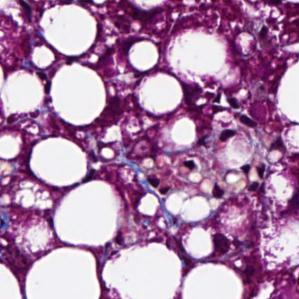inflammation: (203, 89, 257, 142), (238, 161, 270, 194)
